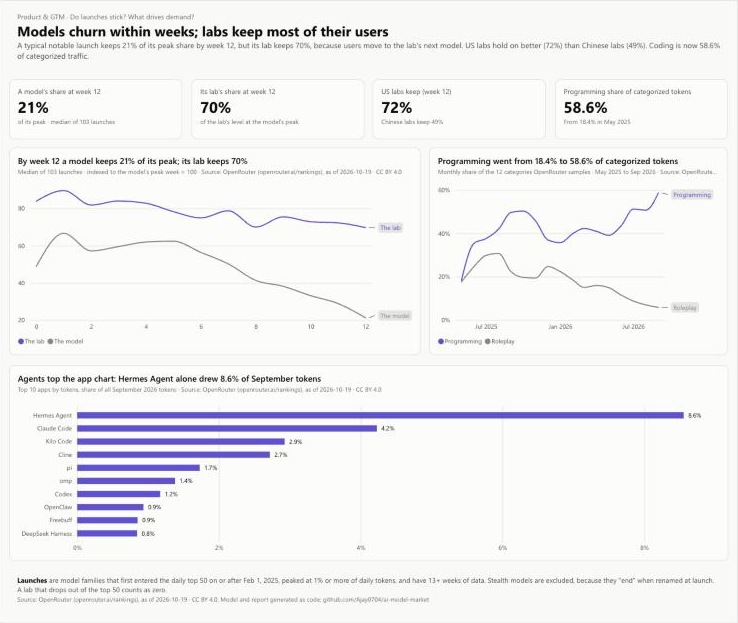

Layout of this report page (visuals, bound fields, positions):
{"tool":"tableau","page":{"name":"5 · Product & GTM","canvas":[1400,950],"ordinal":4},"visuals":[{"type":"text","box":[0,0,1400,123.5]},{"type":"text","box":[0,123.5,350,104.5]},{"type":"text","box":[350,123.5,350,104.5]},{"type":"text","box":[700,123.5,350,104.5]},{"type":"text","box":[1050,123.5,350,104.5]},{"type":"worksheet","title":"Launch curve","mark":"Line","rows":["Share (% of peak)"],"cols":["Weeks Since Launch"],"box":[0,228,812,361]},{"type":"worksheet","title":"Categories","mark":"Line","rows":["Share"],"cols":["Month"],"box":[812,228,588,361]},{"type":"worksheet","title":"Top apps","mark":"Bar","rows":["App"],"cols":["Share of September Tokens"],"box":[0,589,1400,285]},{"type":"text","box":[0,874,1400,76]}]}

Visuals, with their boxes on the page's 1400x950 design canvas (x1, y1, x2, y2). These are canvas units, not pixel positions in the 738x623 screenshot, which may show the page scaled, cropped or inside an application window:
text: x1=0 y1=0 x2=1400 y2=124
text: x1=0 y1=124 x2=350 y2=228
text: x1=350 y1=124 x2=700 y2=228
text: x1=700 y1=124 x2=1050 y2=228
text: x1=1050 y1=124 x2=1400 y2=228
"Launch curve" worksheet (Line marks): x1=0 y1=228 x2=812 y2=589
"Categories" worksheet (Line marks): x1=812 y1=228 x2=1400 y2=589
"Top apps" worksheet (Bar marks): x1=0 y1=589 x2=1400 y2=874
text: x1=0 y1=874 x2=1400 y2=950
